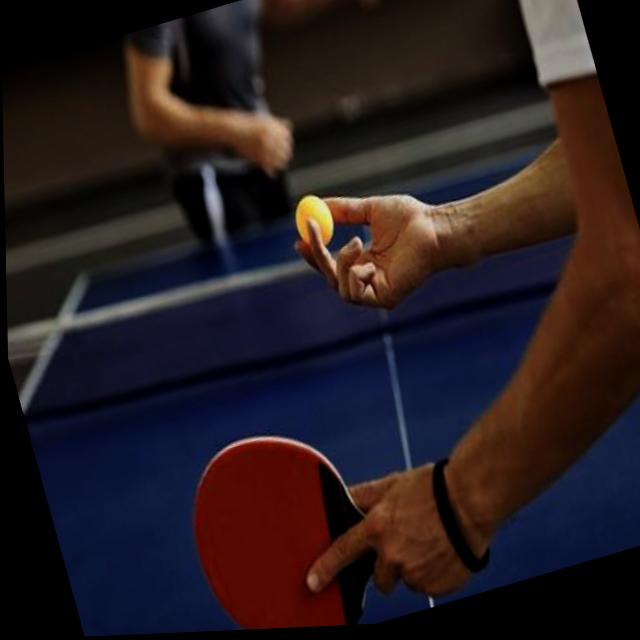TT Net: (7, 156, 640, 431)
TT Racket: (176, 424, 376, 632)
TT Table: (20, 127, 640, 637)
